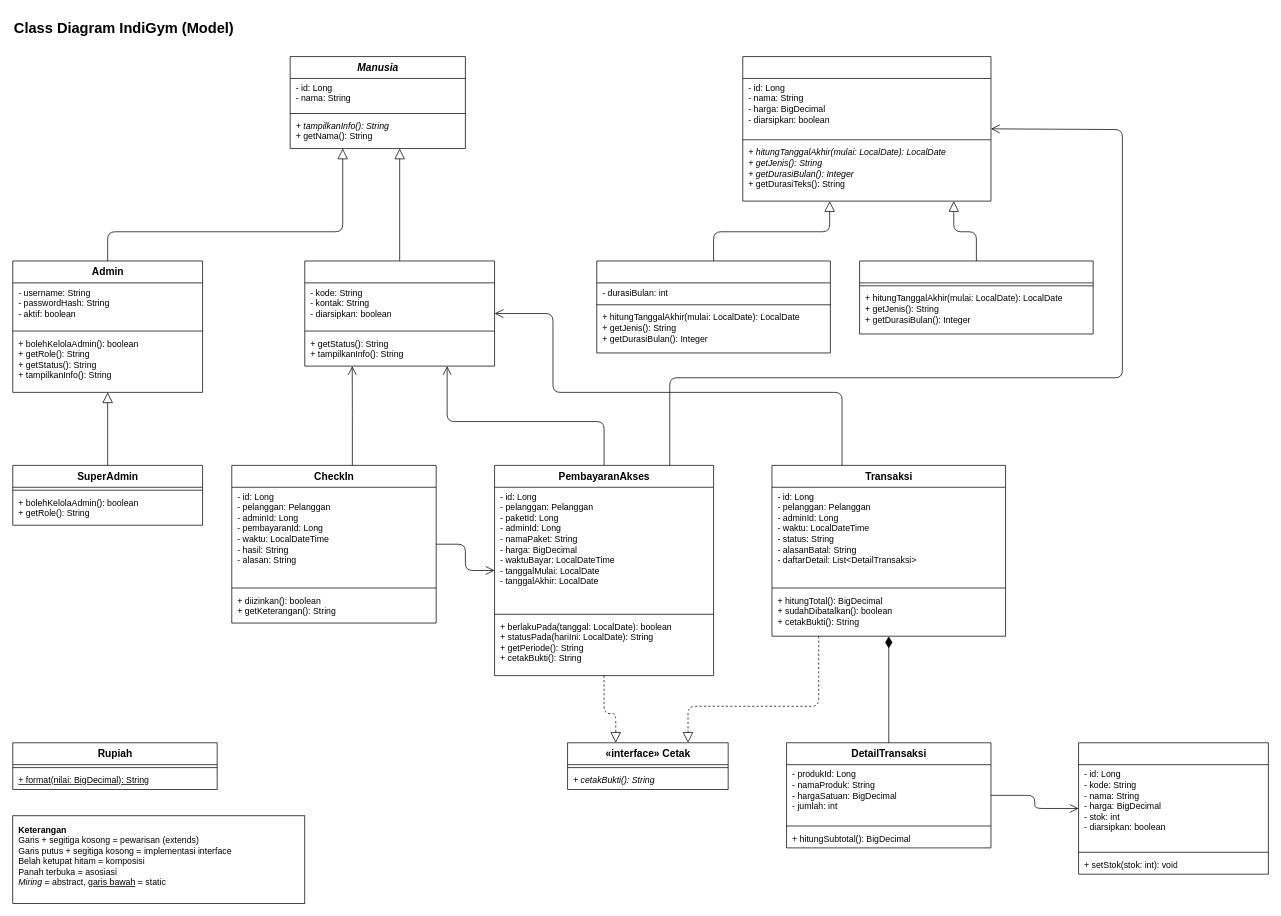
Some shapes in this 1281 by 916 pixel diagram are drawn without their labels. The shapes that lost their labels are listed below. From the top down, each one's box as (x1, y1, x2, y2) in pixels, then its label:
(742, 56, 991, 201): PaketAkses
(304, 260, 495, 366): Pelanggan
(596, 260, 830, 353): PaketMembership
(859, 260, 1093, 334): PaketHarian
(1078, 742, 1268, 874): Produk
